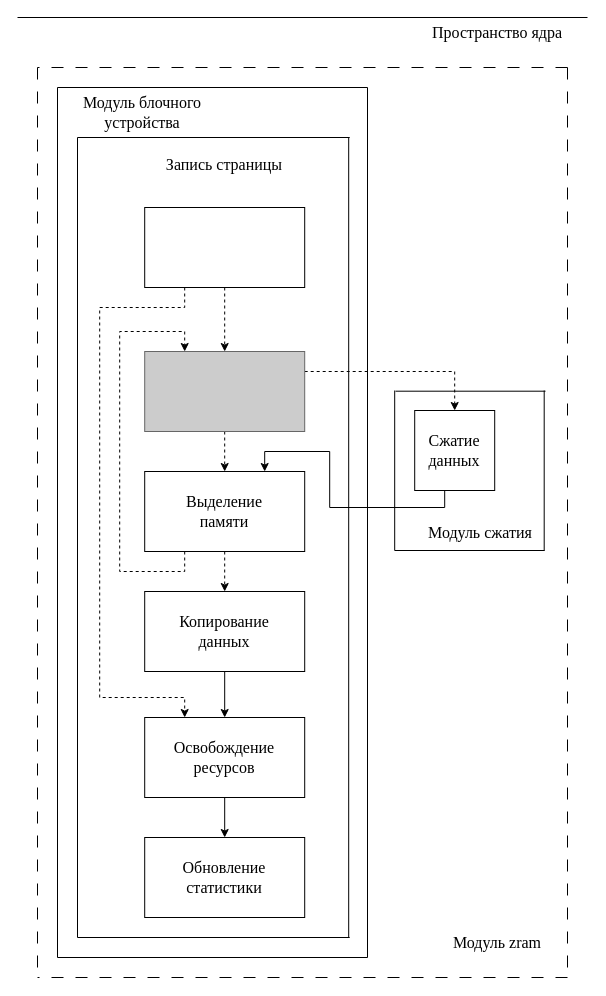
Some shapes in this 606 by 996 pixel diagram are drawn without their labels. The centre of each missing label's shape, as x and y in pixels:
"Вычисление информационной энтропии" goes at (224,391).
"Проверка повторяющихся данных" goes at (224,247).
